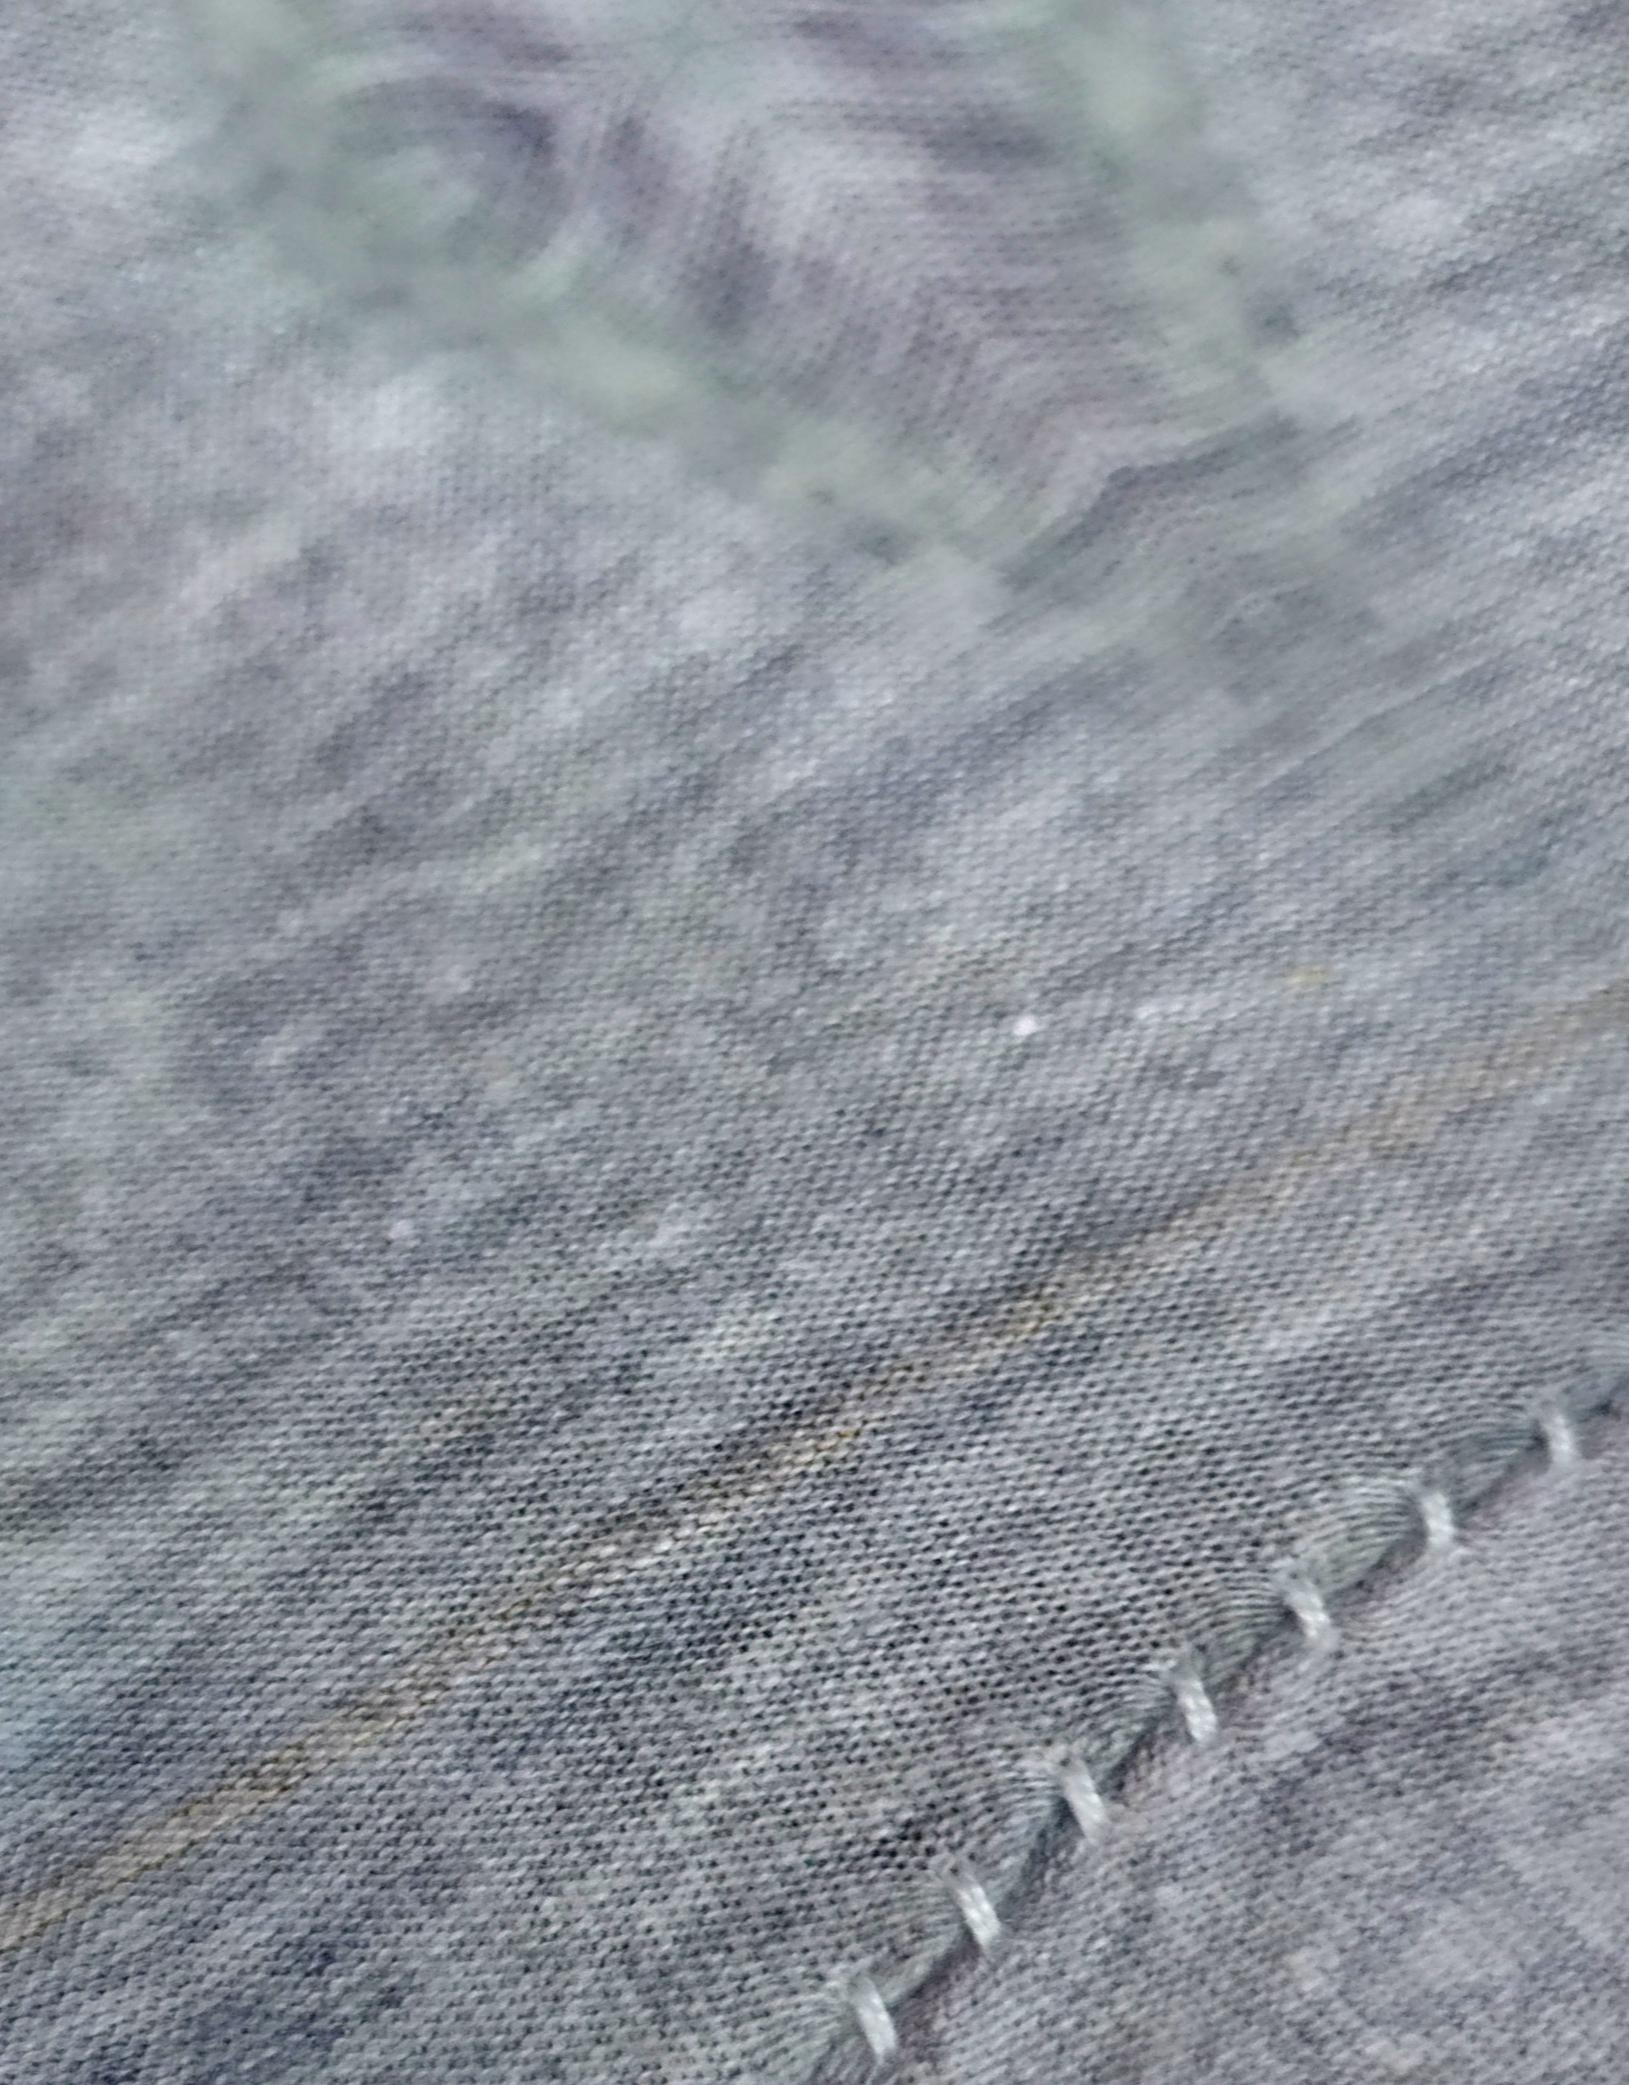slub: (819, 1378, 1627, 2077)
